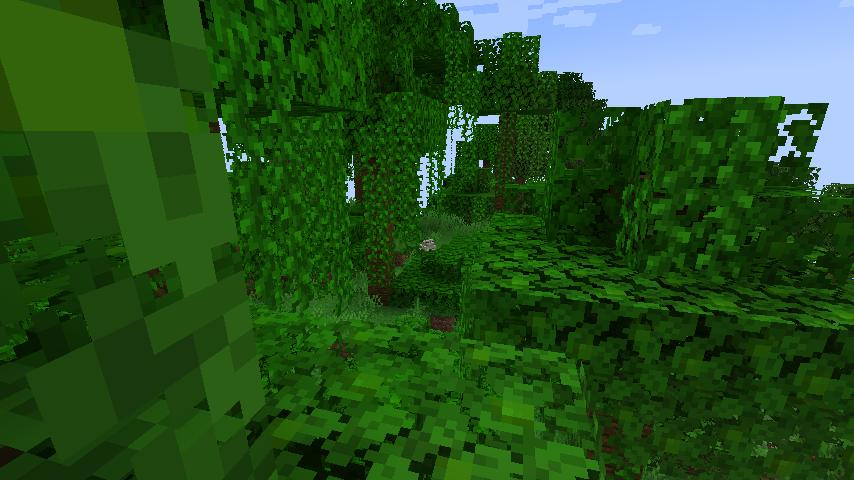frog: (417, 237, 438, 253)
